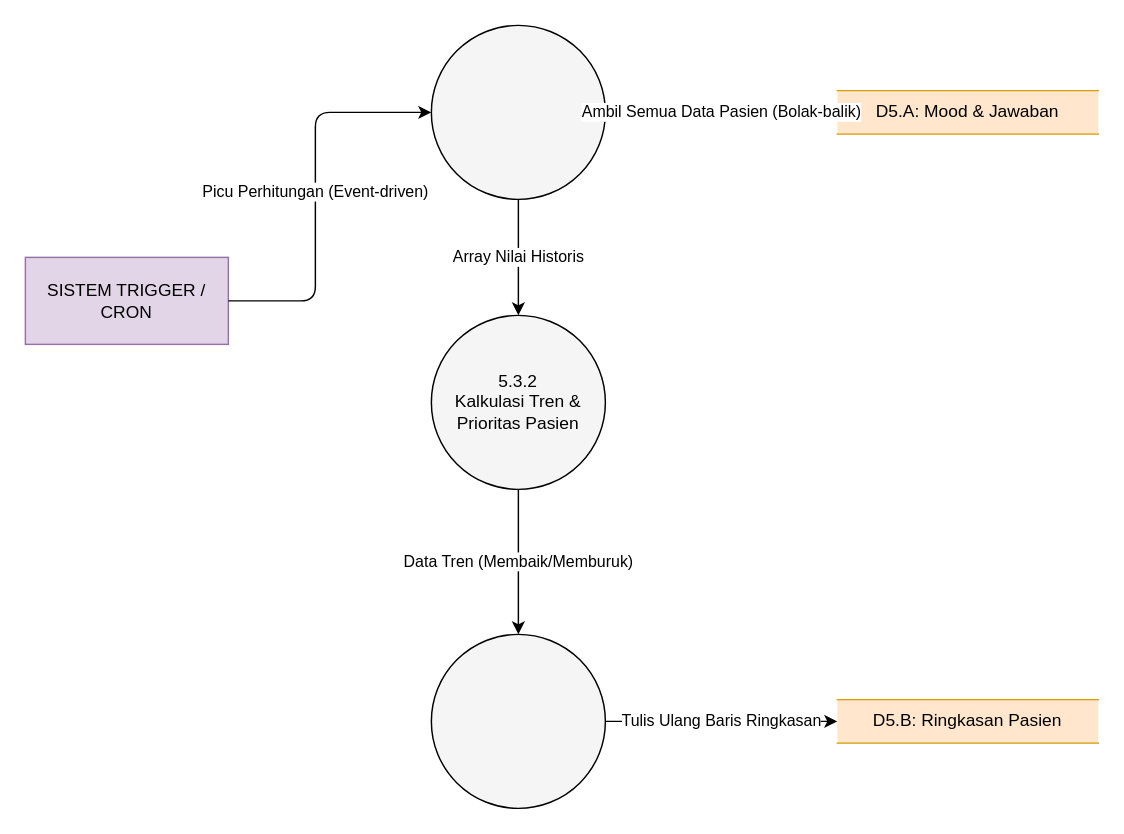
This 1124x834 diagram has some shape labels left out. Each missing label, with the centre of its shape:
"5.3.1 Ambil Riwayat Mood & Skor Pemantauan" goes at point (517, 111).
"5.3.3 Update / Simpan Tabel Ringkasan" goes at point (517, 720).
